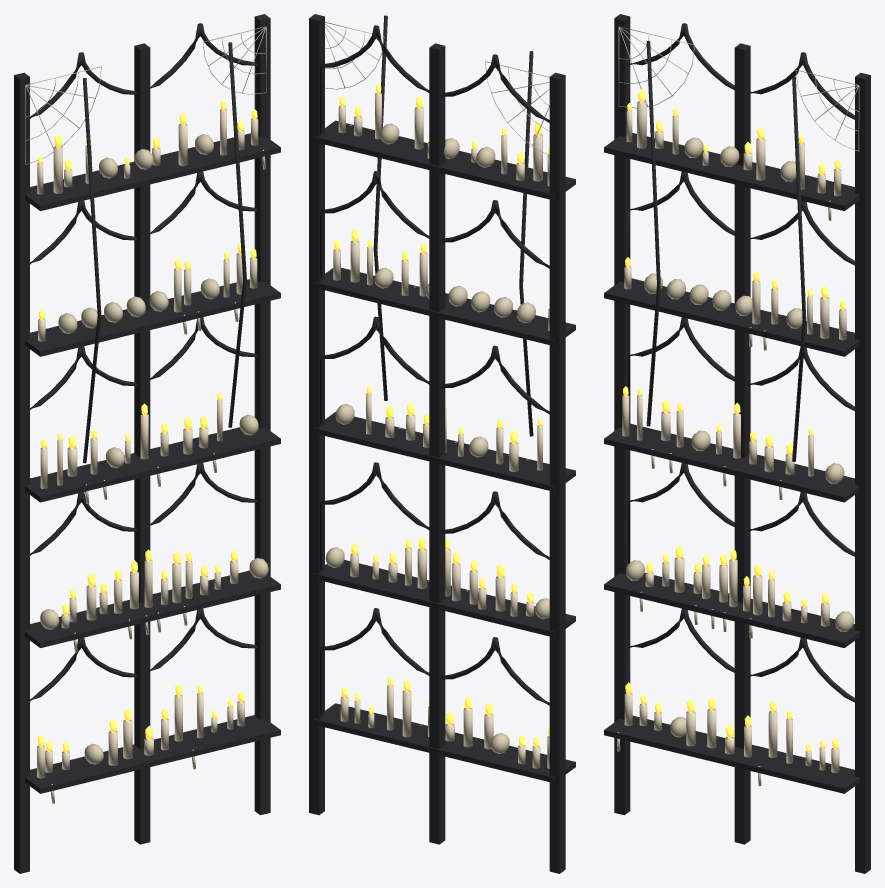
The model's file is gothic-candles.glb.
3 views of the same model, side by side, from view 1: azimuth 30°, elevation 25°; view 2: azimuth 150°, elevation 25°; view 3: azimuth 330°, elevation 25° (orthographic).
Visible parts, largest first — view 1: Model Mesh; view 2: Model Mesh; view 3: Model Mesh.
Boxes of the visible parts, bbox=[...] form: Model Mesh: bbox=[14, 14, 280, 873]; Model Mesh: bbox=[309, 14, 575, 873]; Model Mesh: bbox=[604, 14, 870, 873].
Size of the model in its own units: 1.98 by 6.05 by 0.345.
